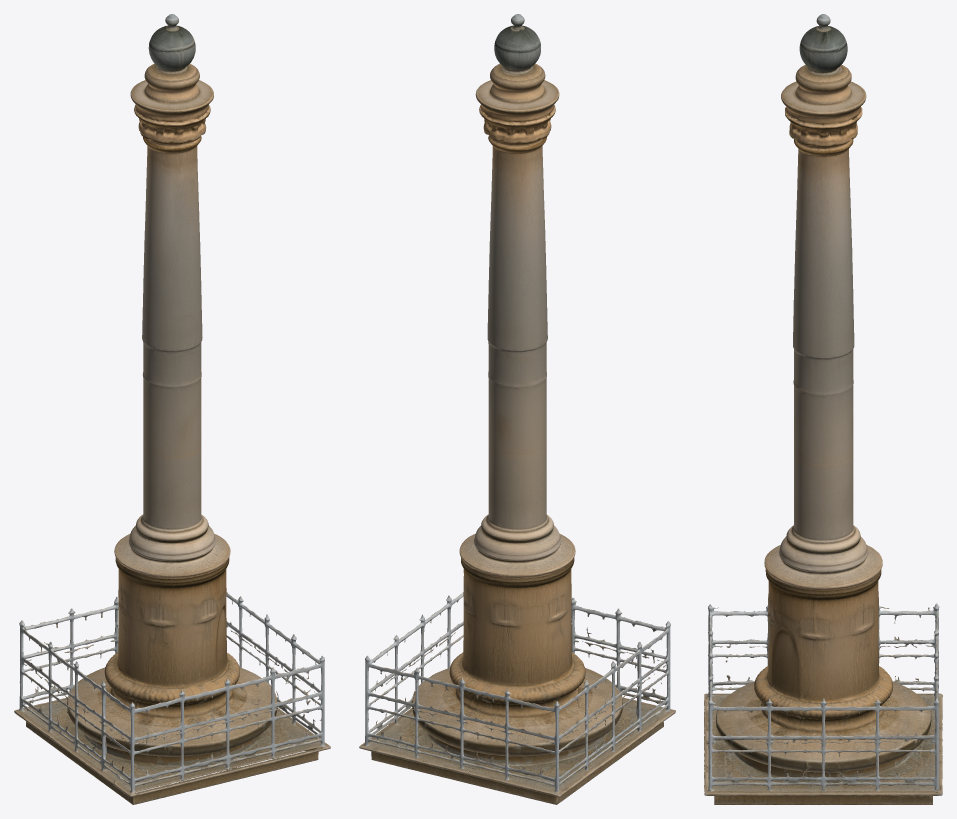
Rendered from lefkosa-dikilitas.glb.
The picture shows the model from 3 angles, left to right: view 1: azimuth 30°, elevation 25°; view 2: azimuth 150°, elevation 25°; view 3: azimuth 270°, elevation 25°; orthographic projection. The views are drawn at different scales.
Bounding box in the file's own units: 0.55 × 1.9 × 0.5526.
1 material, 1 textured.
